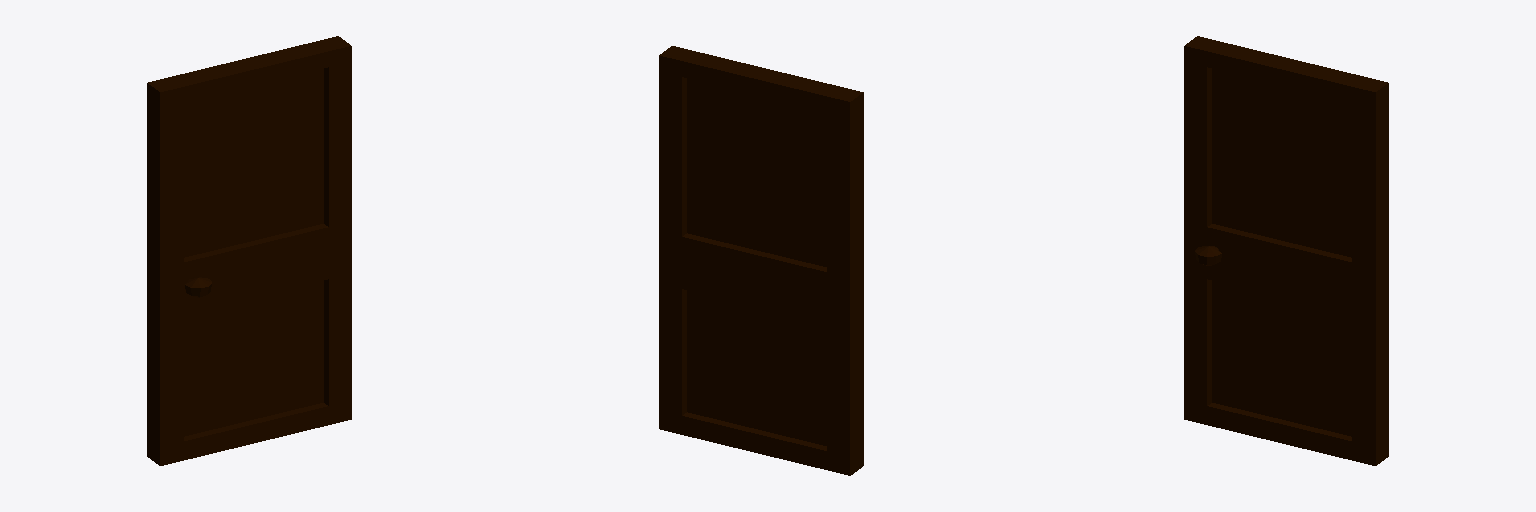
The model's file is ajto_b.obj.
3 renders of one model, left to right at view 1: azimuth 30°, elevation 25°; view 2: azimuth 150°, elevation 25°; view 3: azimuth 330°, elevation 25°, orthographic.
Parts seen in each view (by area): view 1: ajto_b; view 2: ajto_b; view 3: ajto_b.
Boxes of the visible parts, x1,y1,x2,y2 form: ajto_b: [147, 36, 351, 465]; ajto_b: [659, 46, 863, 475]; ajto_b: [1184, 36, 1388, 465].
Bounding box in the file's own units: 124 × 232 × 29.94.